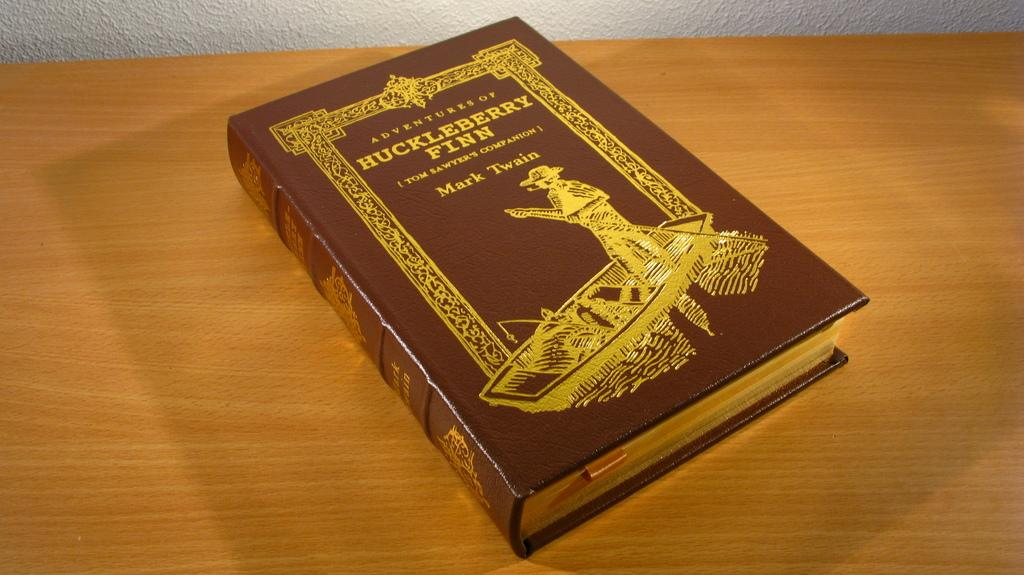book: (225, 14, 874, 560)
